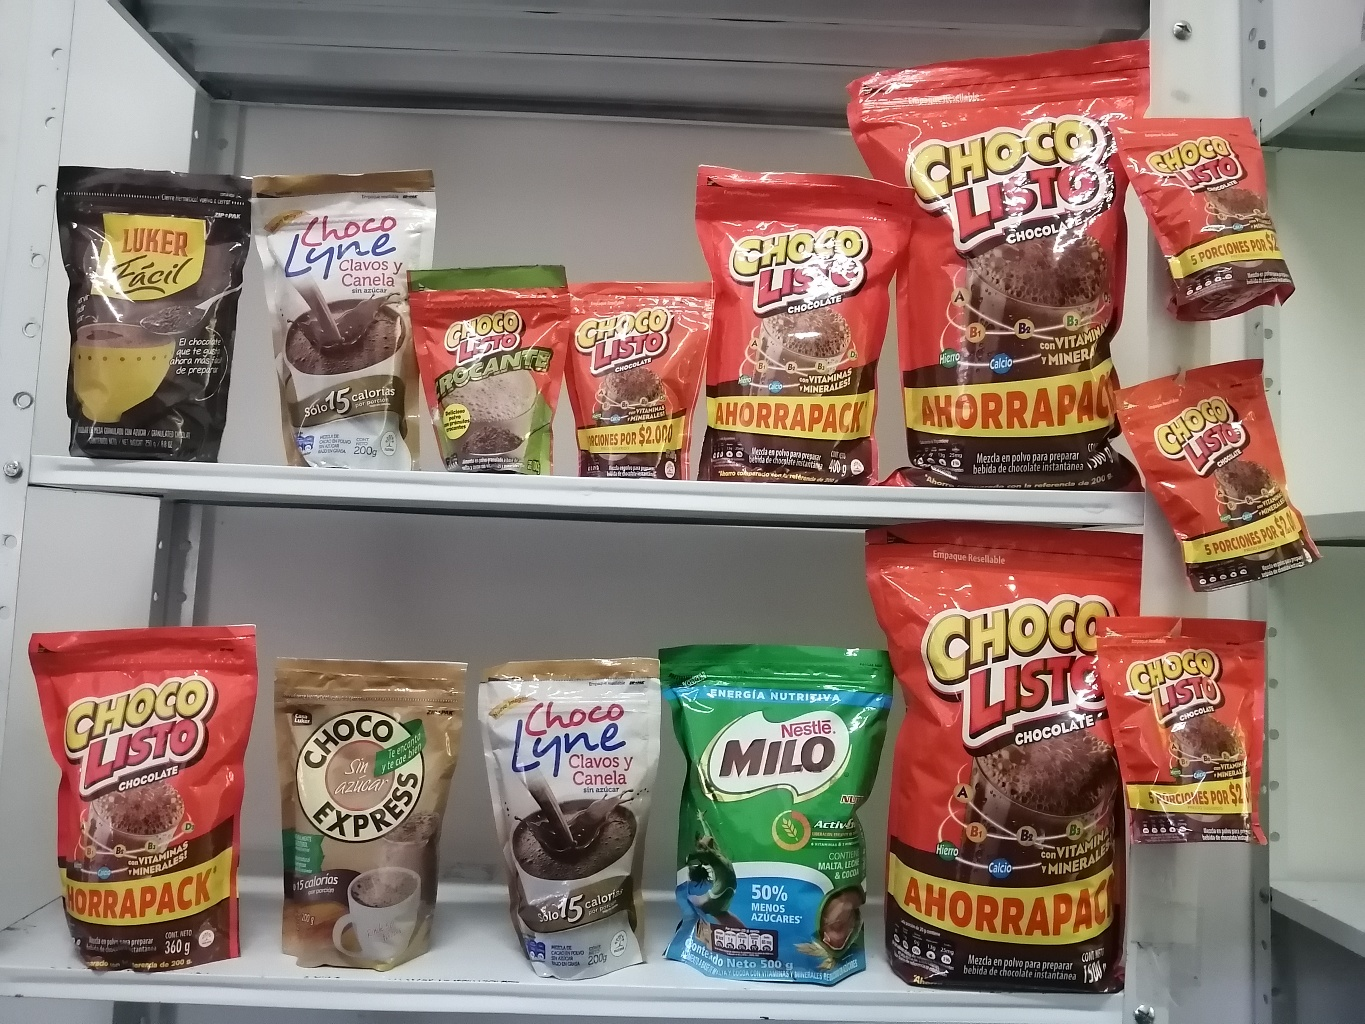COL0170102DYP10000: (395, 250, 583, 483)
COL0170103DYP1,500: (836, 11, 1217, 513)
COL0170103DYP10000: (1099, 79, 1336, 325)
COL0170103DYP36000: (13, 613, 256, 987)
COL0170103DYP40000: (674, 140, 918, 493)
COL0170205DYP50000: (640, 611, 901, 1009)
